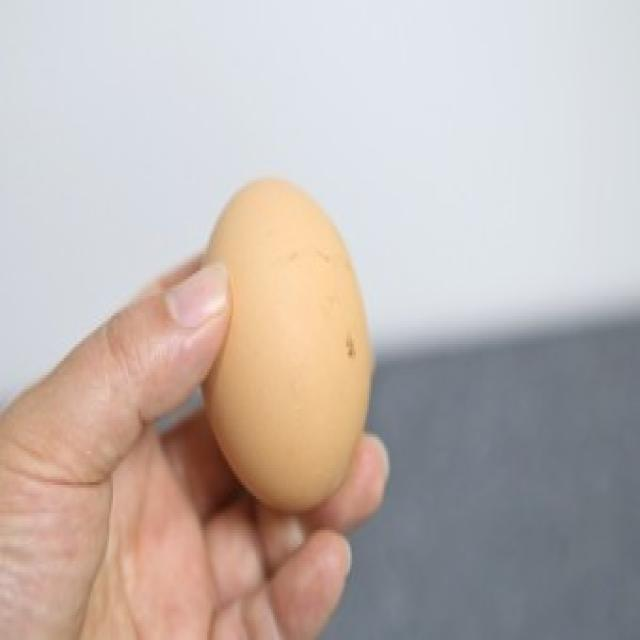eggs: (192, 173, 371, 502)
